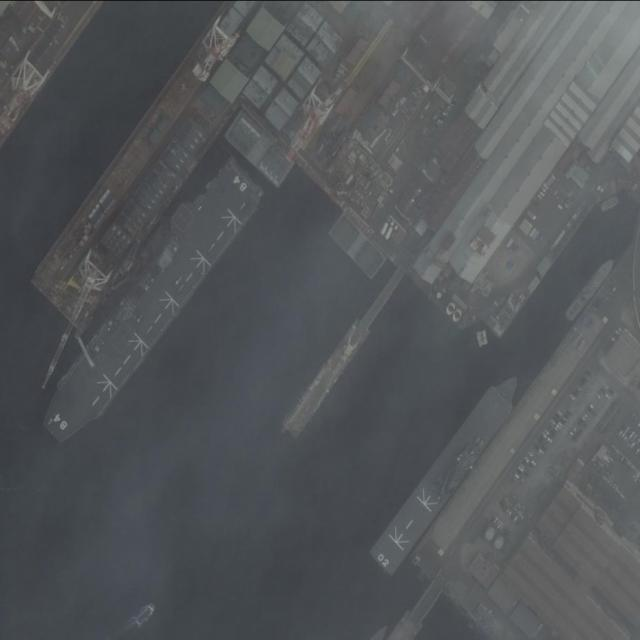Destroyer: (25, 162, 270, 448)
Dock: (279, 267, 409, 440)
Landing: (367, 369, 532, 578)
